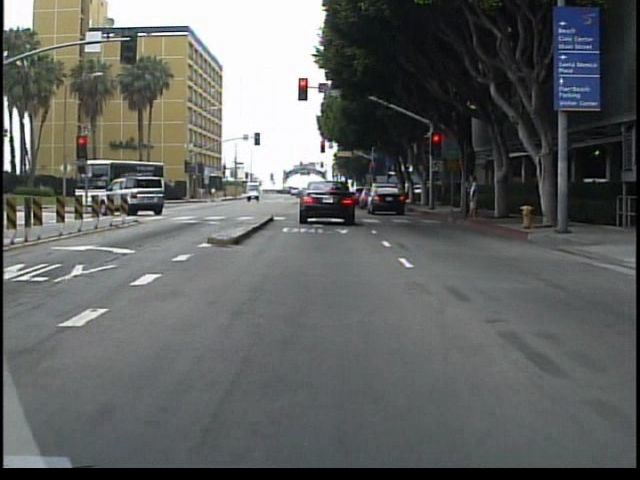person: (465, 169, 484, 220)
